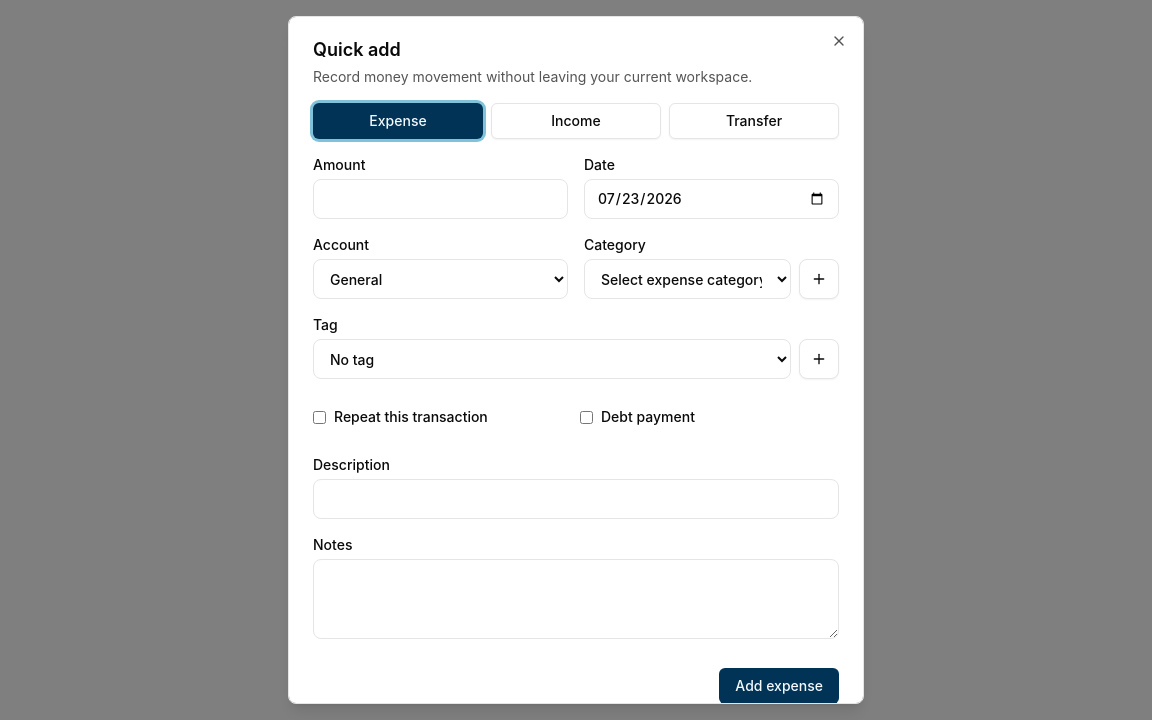
QuickAddDialog › keeps values and the dialog open after a recoverable mutation error
In the number field labelled "Amount": (440, 199) [313,179,568,219], type "12.50"
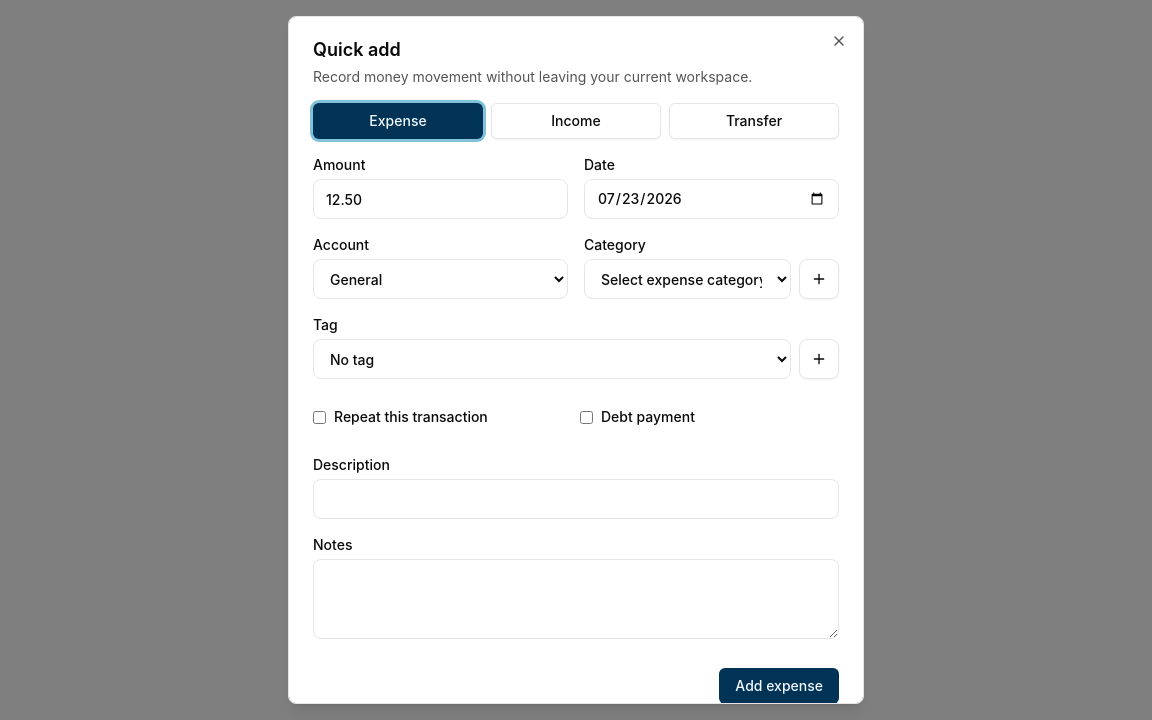
Select "Food" in the dropdown labelled "Category": (688, 279) [584,259,791,299]
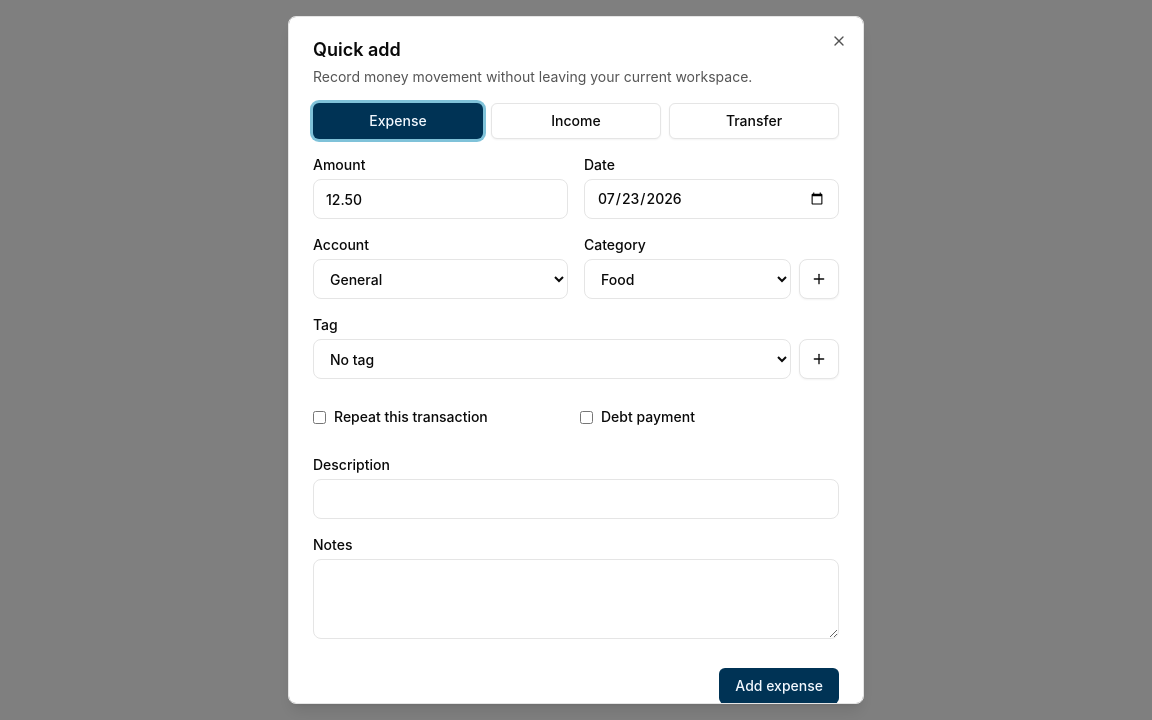
In the field labelled "Description": (576, 499) [313,479,839,519], type "Lunch"
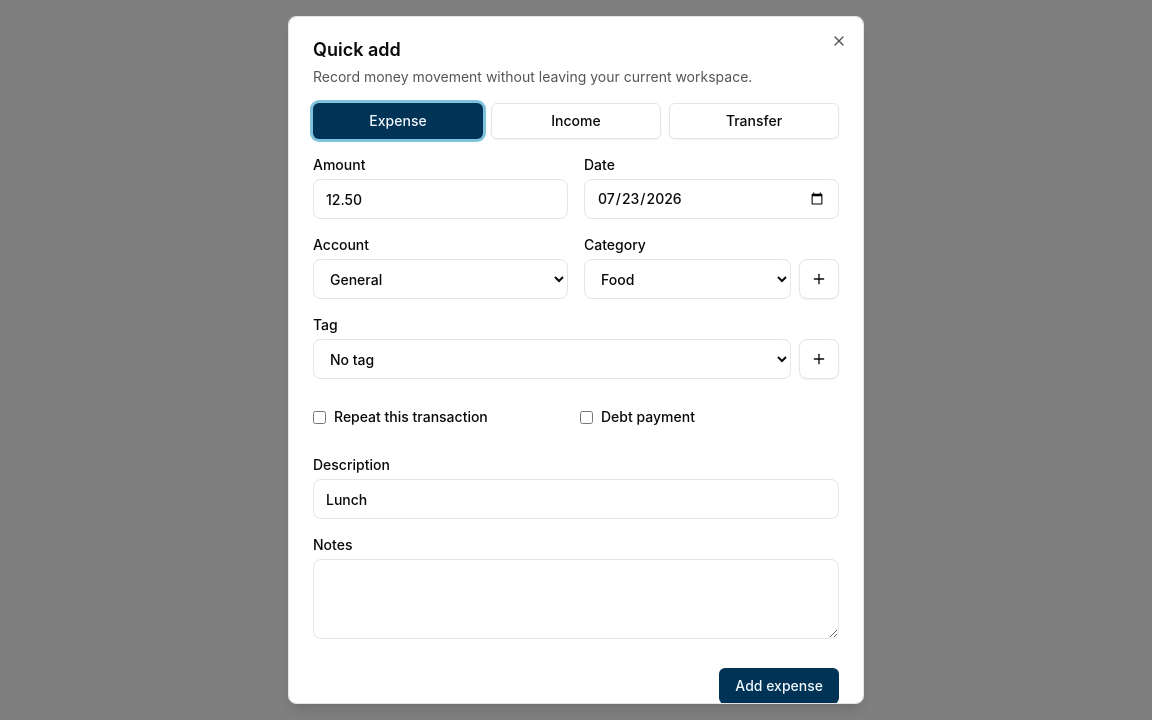
Click the button "Add expense": click(779, 686) [719,668,839,704]
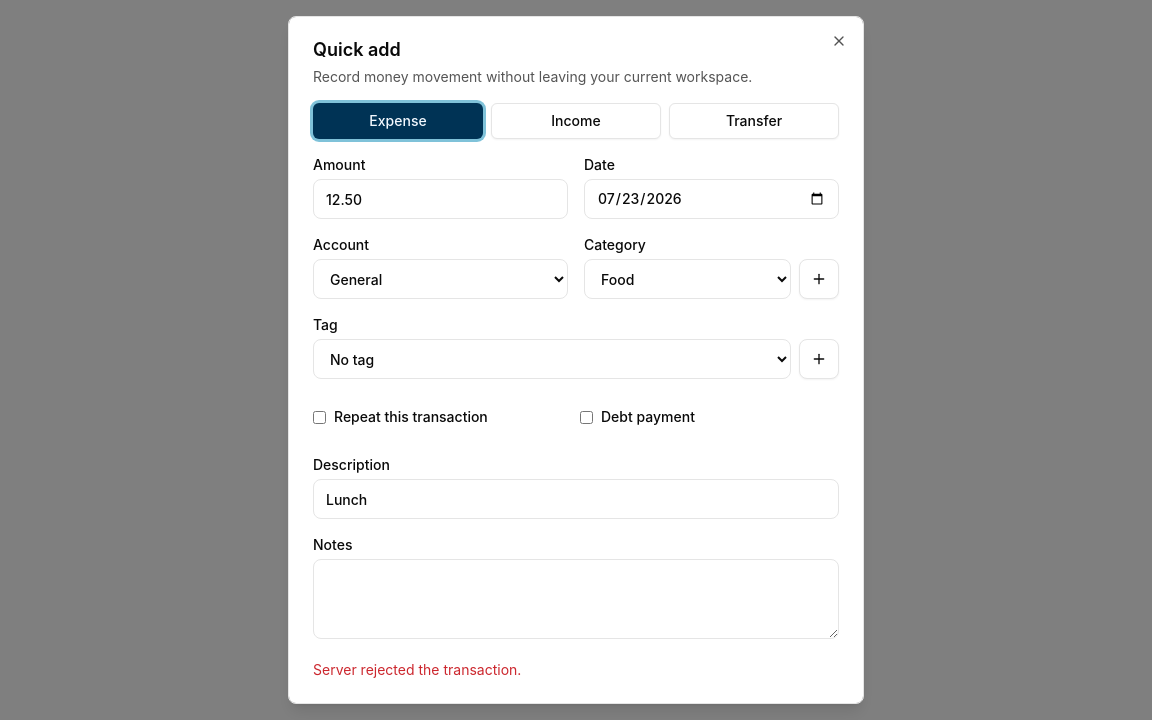
Expected: the dialog is shown, [288,16,864,704]
Now the message reads "Server rejected the transaction.", box [313,661,521,678]
